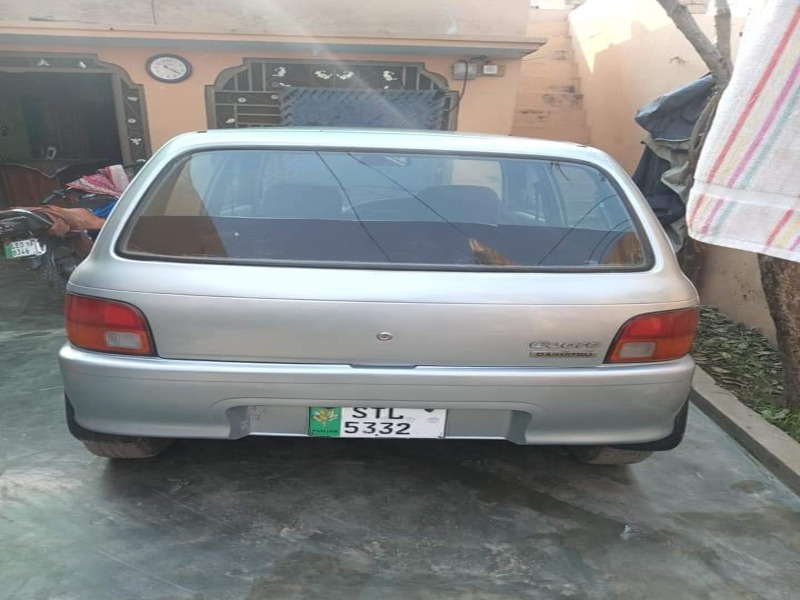License Plate: (306, 401, 447, 445)
